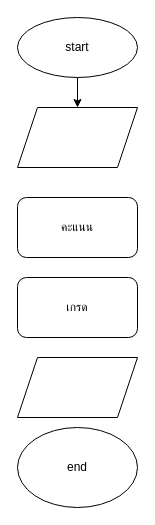
Some shapes in this 155 by 525 pixel diagram are drawn without their labels. The centre of each missing label's shape, as x and y in pixels:
"รับค่าคะแนน" goes at [77,137].
"แสดงเกรด" goes at [77,387].
